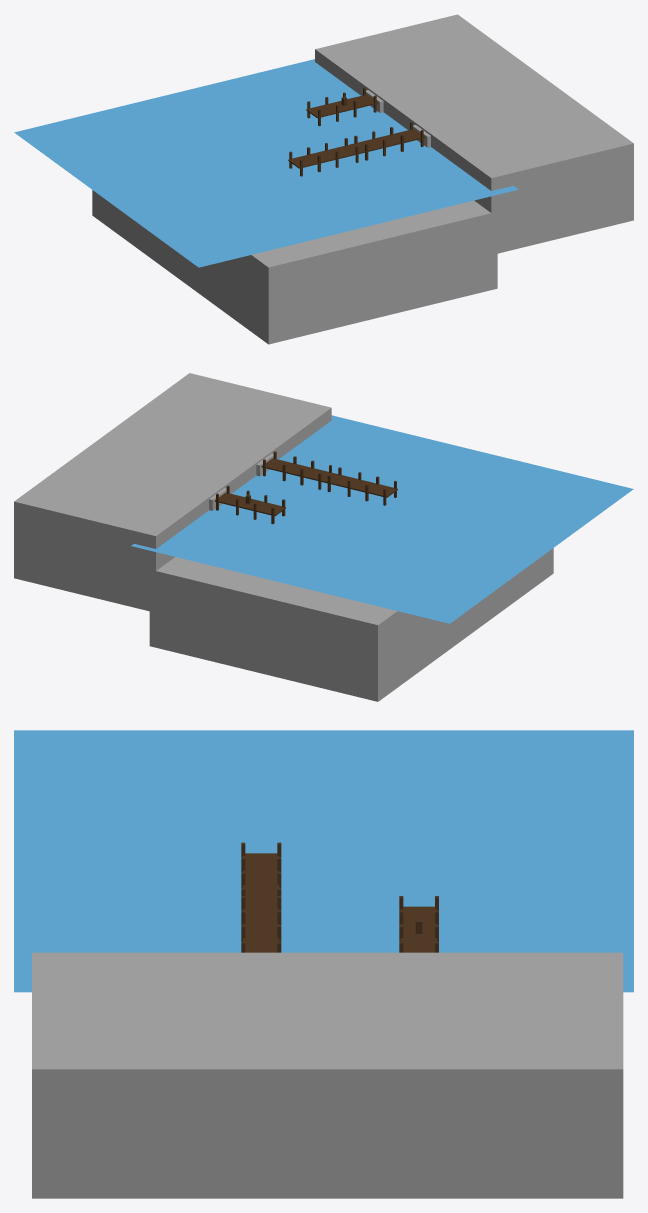
The model's file is city.glb.
The picture shows the model from 3 angles, top to bottom: view 1: azimuth 30°, elevation 25°; view 2: azimuth 150°, elevation 25°; view 3: azimuth 270°, elevation 25°; orthographic projection. The views are drawn at different scales.
Visible parts, largest first — view 1: Plane, Cube.032, Cube.035, Cube.023, Cube.013, Cube.003; view 2: Plane, Cube.032, Cube.035, Cube.023, Cube.013, Cube.003; view 3: Cube.032, Plane, Cube.023, Cube.013, Cube.003.
Part boxes in pixels (bbox=[...]): Plane: bbox=[14, 59, 518, 267]; Cube.032: bbox=[315, 14, 633, 254]; Cube.035: bbox=[92, 190, 497, 344]; Cube.023: bbox=[288, 143, 364, 168]; Cube.013: bbox=[354, 129, 424, 152]; Cube.003: bbox=[306, 94, 377, 118]; Plane: bbox=[131, 415, 633, 623]; Cube.032: bbox=[14, 373, 331, 612]; Cube.035: bbox=[149, 548, 553, 701]; Cube.023: bbox=[322, 473, 397, 497]; Cube.013: bbox=[261, 458, 332, 481]; Cube.003: bbox=[215, 492, 285, 516]; Cube.032: bbox=[32, 952, 623, 1198]; Plane: bbox=[14, 730, 633, 992]; Cube.023: bbox=[243, 853, 279, 906]; Cube.013: bbox=[243, 906, 279, 952]; Cube.003: bbox=[400, 906, 437, 952].
Size of the model in its own units: 127 by 31.99 by 92.62.
